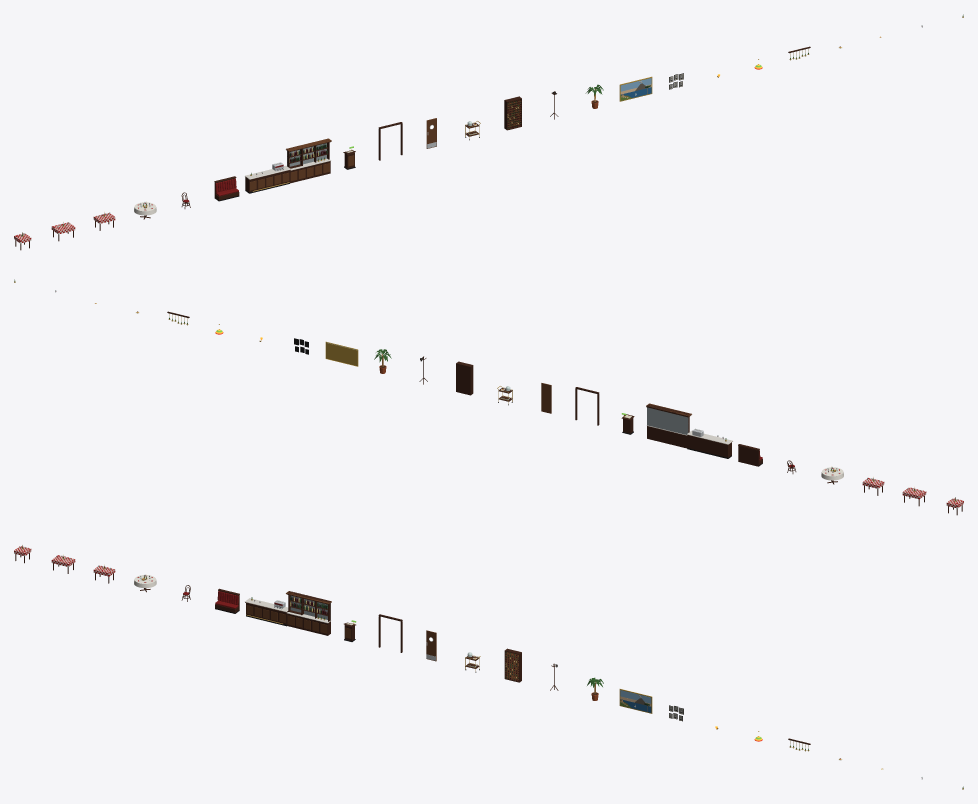
The model's file is Restaurant.glb.
The picture shows the model from 3 angles, top to bottom: view 1: azimuth 30°, elevation 25°; view 2: azimuth 150°, elevation 25°; view 3: azimuth 330°, elevation 25°; orthographic projection.
Visible parts, largest first — view 1: BackBar, Bar, Mural, WineRack; view 2: BackBar, Bar, Mural, WineRack; view 3: BackBar, Bar, Mural, WineRack.
Part boxes in pixels (x1,y1,x2,y2): BackBar: (286, 138, 331, 183); Bar: (245, 162, 290, 193); Mural: (619, 76, 652, 101); WineRack: (504, 96, 521, 130); BackBar: (646, 403, 691, 448); Bar: (687, 428, 732, 458); Mural: (325, 341, 358, 366); WineRack: (456, 361, 473, 395); BackBar: (286, 591, 331, 635); Bar: (245, 597, 288, 626); Mural: (619, 689, 652, 713); WineRack: (504, 648, 521, 682).
Size of the model in its own units: 347 by 11.88 by 7.3.
